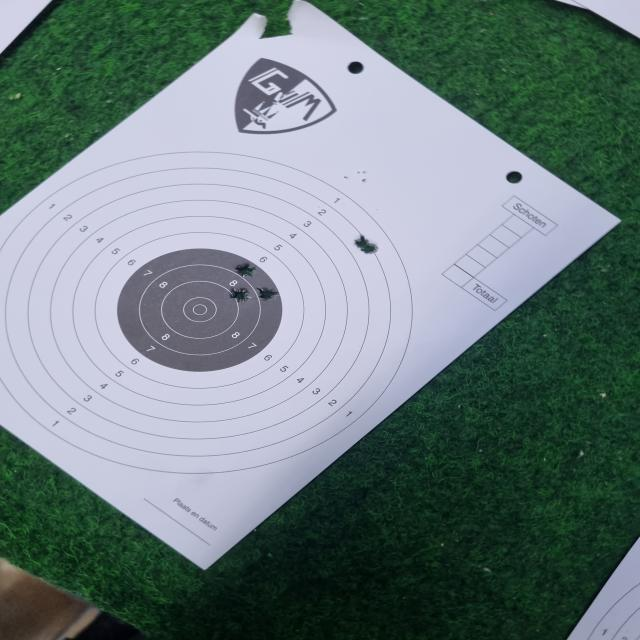10: (230, 288, 252, 302)
3: (354, 234, 369, 248), (361, 244, 378, 254)
8: (236, 262, 256, 278), (258, 287, 278, 301)
Black Contour: (114, 249, 290, 365)
Target: (0, 150, 412, 476)
